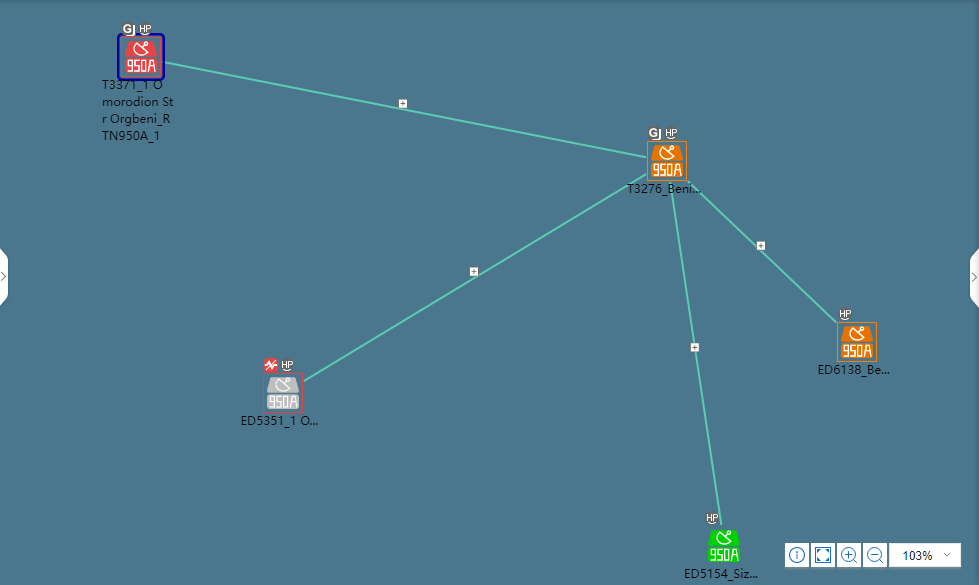Link_Blue: (303, 173, 641, 380), (182, 63, 650, 158), (688, 179, 840, 323), (670, 204, 720, 523)
RTN_Gray: (266, 375, 301, 416)
RTN_Green: (707, 528, 742, 562)
RTN_Orange: (646, 143, 687, 184), (841, 326, 877, 361)
RTN_Red: (119, 39, 159, 80)
